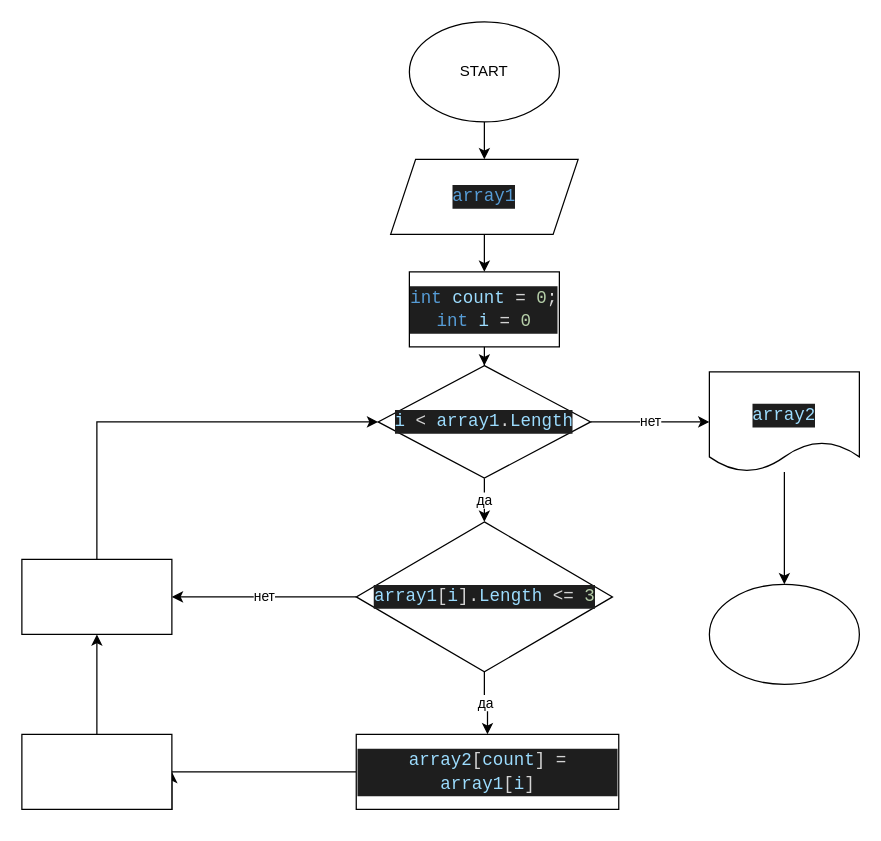
Image size: 881x841. Some labels were removed from this diagram. The centre of each missing label's shape, as x and y in pixels:
count ++: (96,771)
FINISH: (783,633)
i ++: (96,596)
